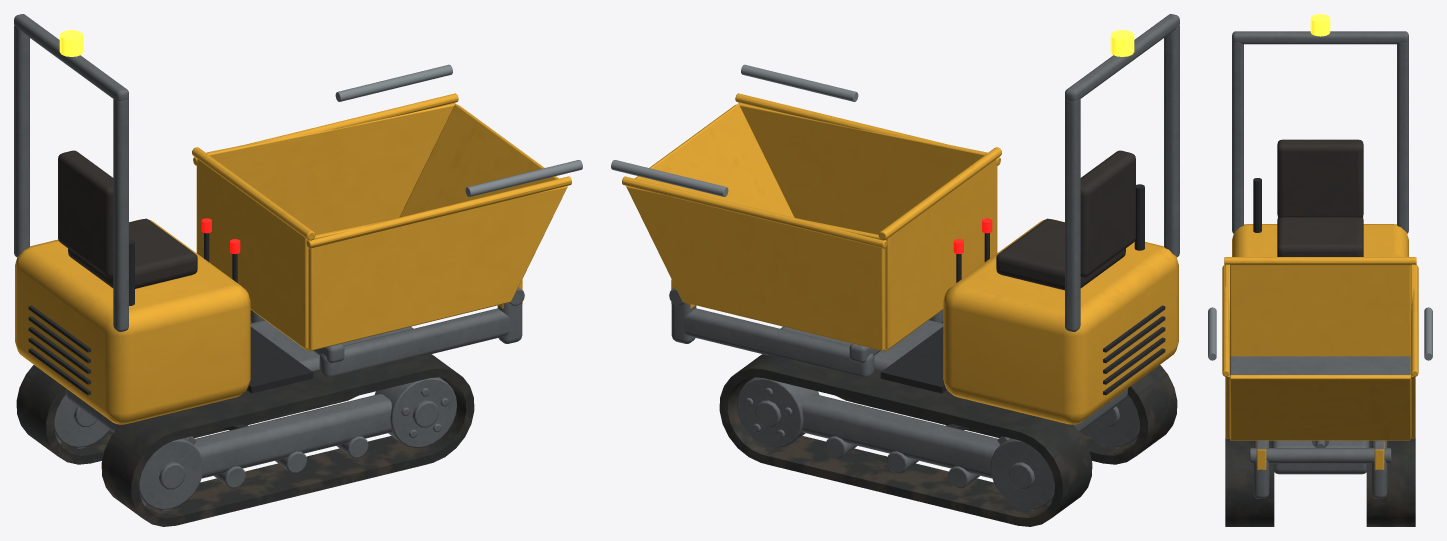
File: dumper_used.glb
The picture shows the model from 3 angles, left to right: view 1: azimuth 30°, elevation 25°; view 2: azimuth 150°, elevation 25°; view 3: azimuth 270°, elevation 25°; orthographic projection. The views are drawn at different scales.
Visible parts, largest first — view 1: Skip, EngineCover, TrackBand, Chassis, RollBar, Seat, BodyDetails, TrackWheelR1, TrackWheelR0, TrackWheelL0, Clean skip safety rail.001, Clean skip safety rail; view 2: Skip, EngineCover, TrackBand, Chassis, Seat, RollBar, BodyDetails, TrackWheelL1, TrackWheelL0, TrackWheelR0, Clean skip safety rail, Clean skip safety rail.001; view 3: Skip, Seat, RollBar, TrackBand, Chassis, EngineCover, BodyDetails, Clean skip safety rail, Clean skip safety rail.001, Beacon.
Part boxes in pixels (x1,y1,x2,y2): Skip: (192, 93, 571, 351); EngineCover: (15, 219, 250, 424); TrackBand: (16, 322, 474, 526); Chassis: (66, 287, 524, 488); RollBar: (14, 14, 128, 331); Seat: (58, 150, 197, 288); BodyDetails: (28, 239, 313, 395); TrackWheelR1: (374, 377, 457, 447); TrackWheelR0: (139, 436, 203, 510); TrackWheelL0: (54, 394, 109, 448); Clean skip safety rail.001: (335, 64, 452, 101); Clean skip safety rail: (465, 160, 582, 196); Skip: (622, 93, 1001, 351); EngineCover: (943, 219, 1178, 424); TrackBand: (719, 322, 1177, 526); Chassis: (669, 287, 1127, 488); Seat: (996, 150, 1135, 290); RollBar: (1065, 14, 1179, 331); BodyDetails: (880, 184, 1165, 395); TrackWheelL1: (736, 377, 819, 447); TrackWheelL0: (990, 436, 1054, 510); TrackWheelR0: (1084, 394, 1139, 448); Clean skip safety rail: (741, 64, 858, 101); Clean skip safety rail.001: (611, 160, 728, 196); Skip: (1222, 257, 1418, 470); Seat: (1277, 139, 1363, 256); RollBar: (1232, 31, 1408, 233); TrackBand: (1225, 438, 1415, 526); Chassis: (1249, 440, 1391, 498); EngineCover: (1232, 224, 1408, 256); BodyDetails: (1253, 178, 1261, 232); Clean skip safety rail: (1208, 307, 1216, 360); Clean skip safety rail.001: (1424, 307, 1432, 360); Beacon: (1310, 14, 1330, 36).
Size of the model in its own units: 2.23 by 2.15 by 1.14.
13 materials, 9 textured.
